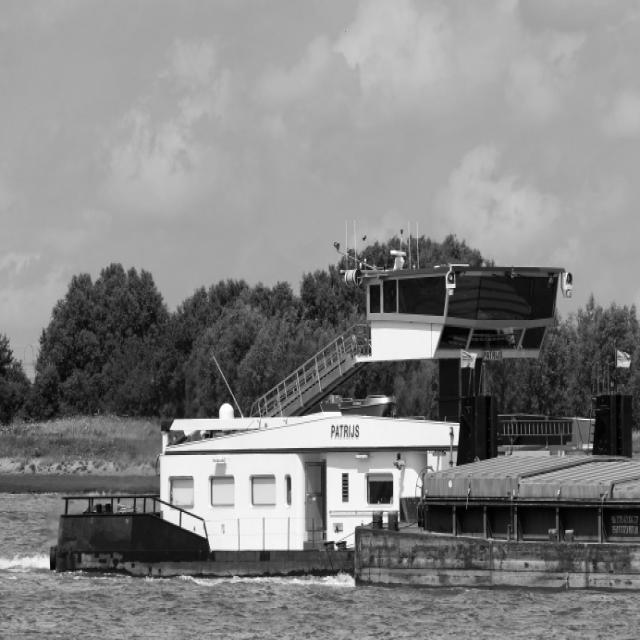tugboat: (43, 243, 640, 599)
